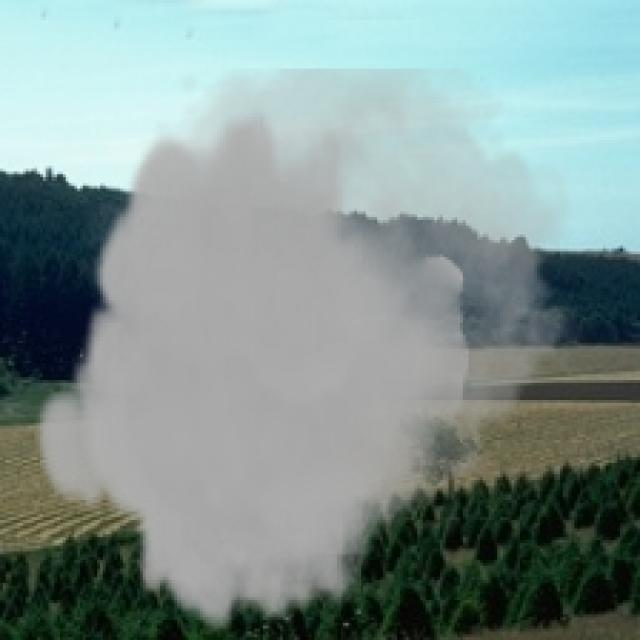Smoke: (31, 68, 588, 634)
